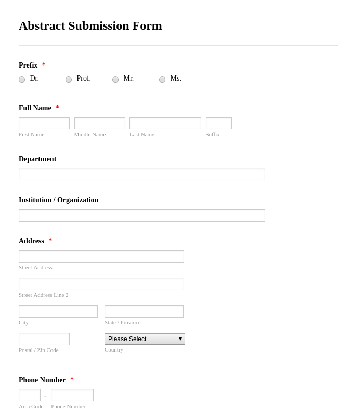checkbox: (158, 76, 166, 84), (18, 76, 25, 83), (112, 76, 119, 83), (66, 76, 72, 83)
textbox: (16, 163, 269, 184), (13, 205, 267, 225), (17, 274, 188, 293), (15, 247, 187, 265), (127, 112, 203, 131), (16, 303, 100, 320), (103, 304, 186, 320), (15, 113, 72, 133), (73, 113, 127, 132), (16, 330, 72, 346), (50, 387, 96, 404), (204, 113, 233, 133), (16, 386, 43, 404)
